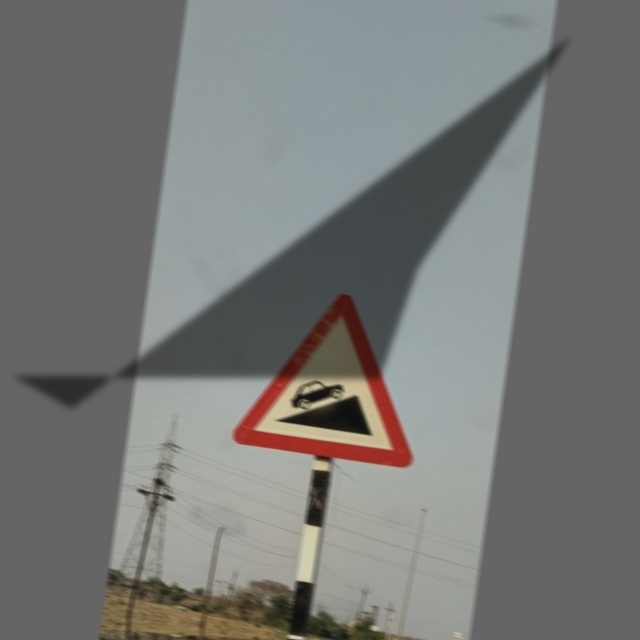Steep_Ascent: (233, 282, 434, 473)
